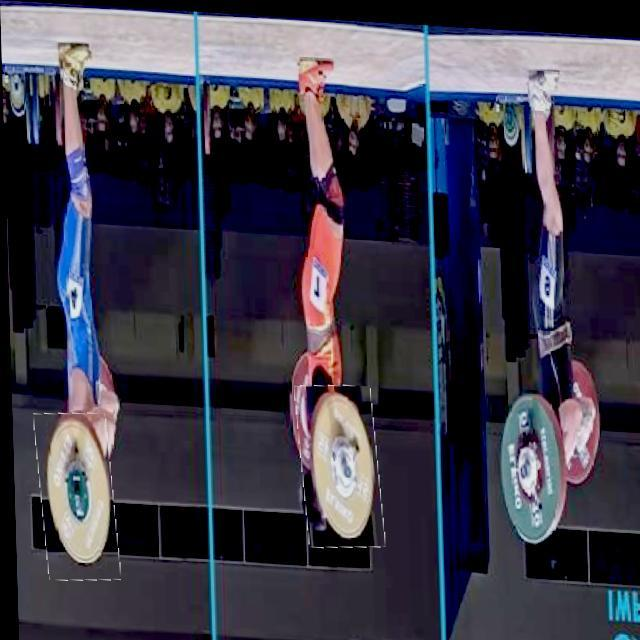barbell: (493, 374, 575, 559), (296, 380, 381, 547), (35, 411, 116, 582)
